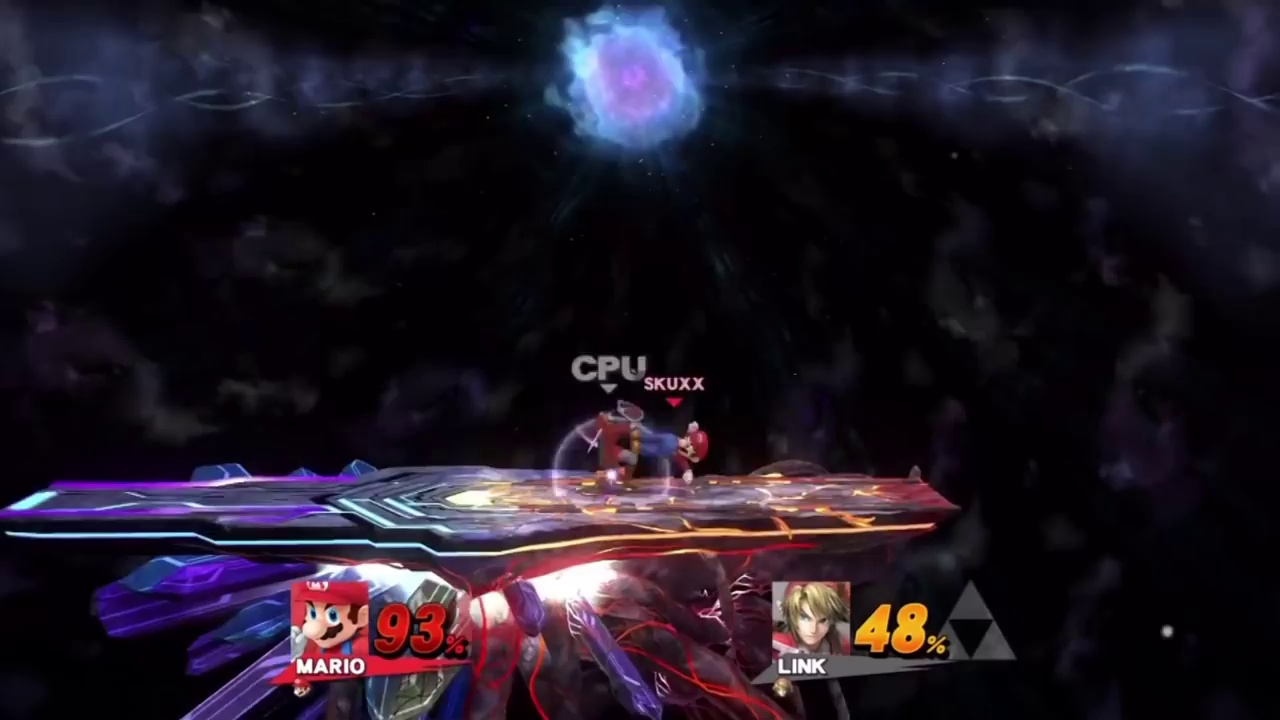Mario: (633, 423, 709, 485)
